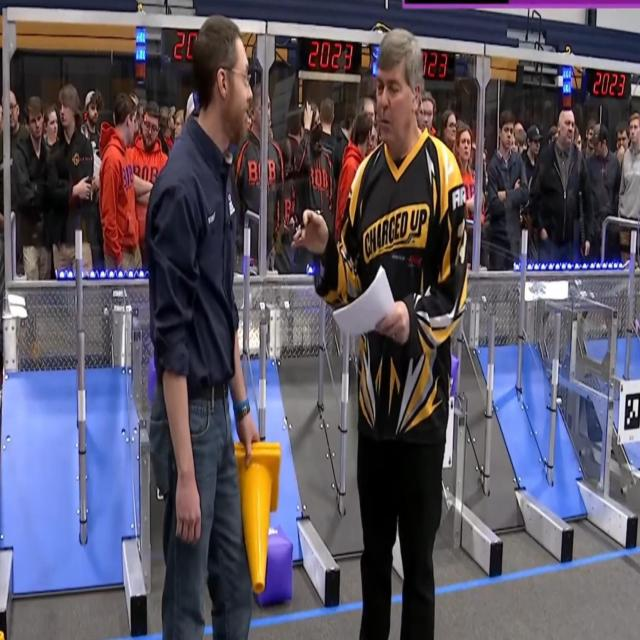frc_cone: (232, 433, 286, 594)
frc_cube: (257, 529, 292, 606), (431, 348, 456, 398), (145, 356, 160, 405)
